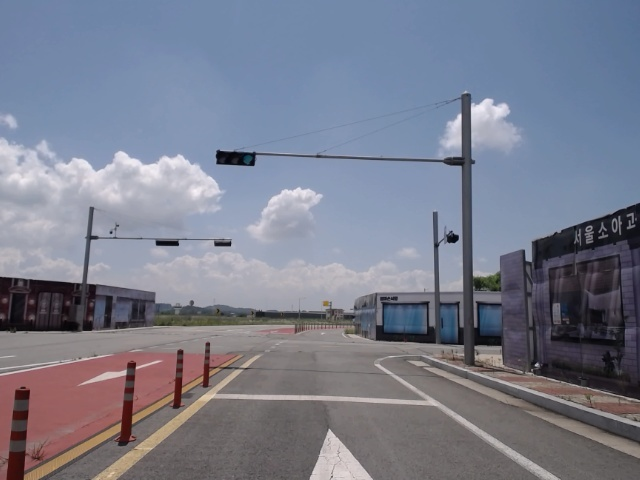green_3: (217, 152, 255, 164)
